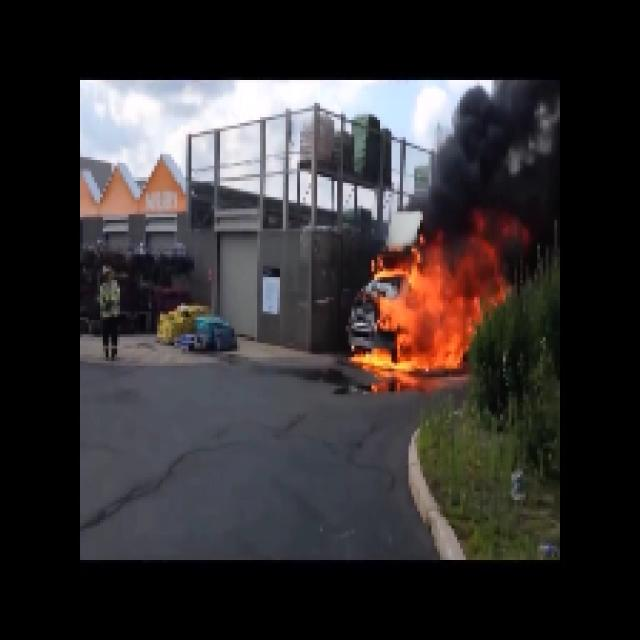fire: (388, 256, 486, 370)
smoke: (459, 102, 551, 241)
